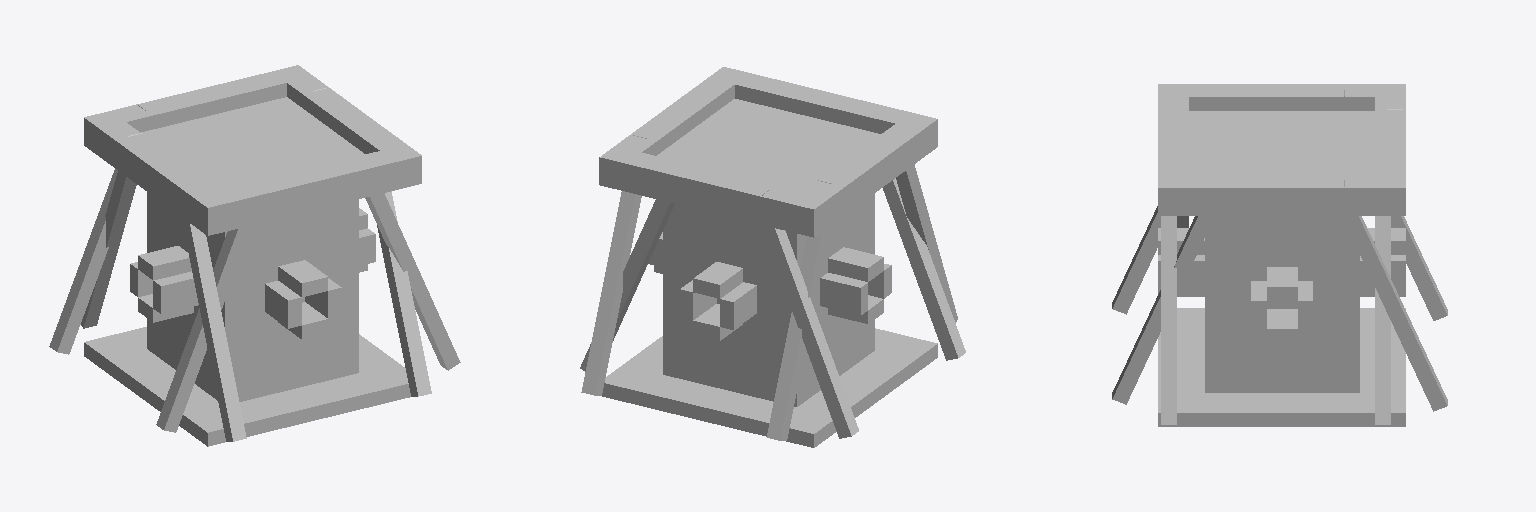
The model's file is elevatorBase.obj.
3 renders of one model, left to right at view 1: azimuth 30°, elevation 25°; view 2: azimuth 150°, elevation 25°; view 3: azimuth 270°, elevation 25°, orthographic.
Visible parts, largest first — view 1: Pole5, Floor, Base, TopSupport2, TopSupport1, TopSupport4, TopSupport3, Support4, Support7, Support5, Support3, Support8 (+10 smaller); view 2: Pole5, Floor, Base, TopSupport2, TopSupport1, Support8, TopSupport3, TopSupport4, Support1, Support7, Support2, Support6 (+9 smaller); view 3: Pole5, Floor, Base, TopSupport1, TopSupport2, Support1, Support5, Support3, Support6, TopSupport4, TopSupport3, Support2 (+7 smaller).
Boxes of the visible parts, x1,y1,x2,y2 form: Pole5: [147, 192, 358, 401]; Floor: [84, 97, 421, 235]; Base: [84, 327, 410, 446]; TopSupport2: [84, 111, 234, 221]; TopSupport1: [272, 65, 421, 175]; TopSupport4: [219, 151, 395, 214]; TopSupport3: [112, 72, 286, 132]; Support4: [181, 217, 246, 441]; Support7: [156, 225, 252, 432]; Support5: [365, 193, 460, 370]; Support3: [377, 191, 431, 396]; Support8: [49, 105, 145, 354]; Pole5: [663, 194, 874, 406]; Floor: [599, 99, 937, 237]; Base: [602, 328, 937, 447]; TopSupport2: [787, 112, 937, 223]; TopSupport1: [599, 67, 749, 177]; Support8: [761, 190, 858, 438]; TopSupport3: [626, 153, 801, 216]; TopSupport4: [735, 73, 910, 133]; Support1: [581, 135, 646, 395]; Support7: [873, 131, 965, 360]; Support2: [767, 180, 831, 440]; Support6: [580, 199, 674, 371]; Pole5: [1205, 216, 1359, 392]; Floor: [1158, 111, 1405, 215]; Base: [1158, 308, 1405, 426]; TopSupport1: [1158, 175, 1405, 201]; TopSupport2: [1158, 84, 1405, 110]; Support1: [1342, 180, 1447, 411]; Support5: [1161, 216, 1176, 424]; Support3: [1112, 216, 1214, 404]; Support6: [1375, 216, 1390, 424]; TopSupport4: [1158, 97, 1188, 174]; TopSupport3: [1375, 97, 1405, 174]; Support2: [1331, 90, 1447, 320].
Size of the model in its own units: 1.35 by 1.06 by 1.35.